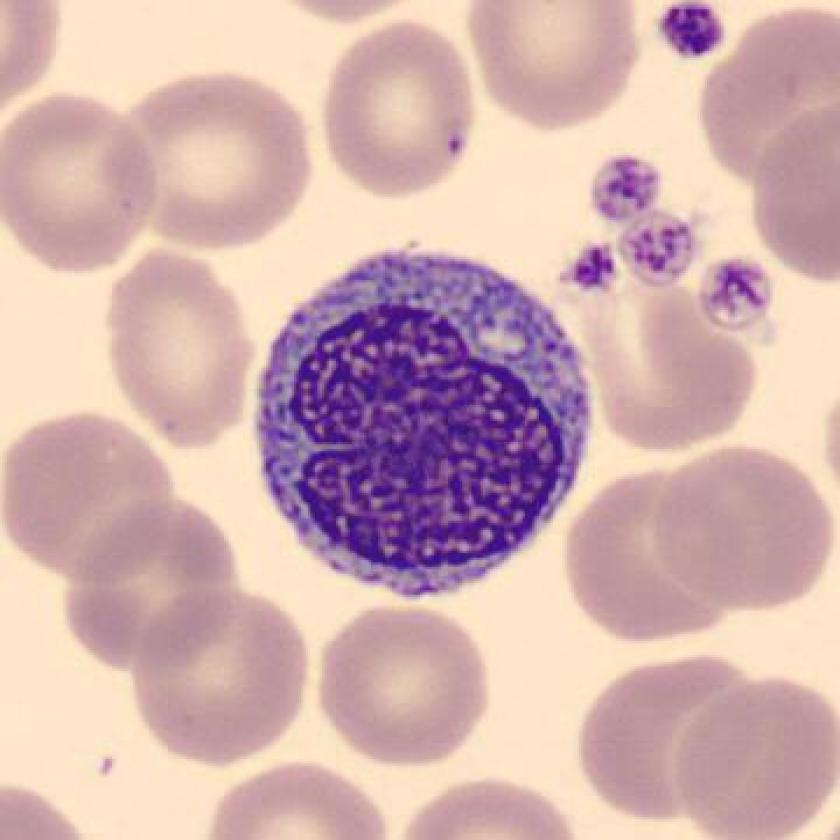monocyte: (234, 233, 617, 622)
